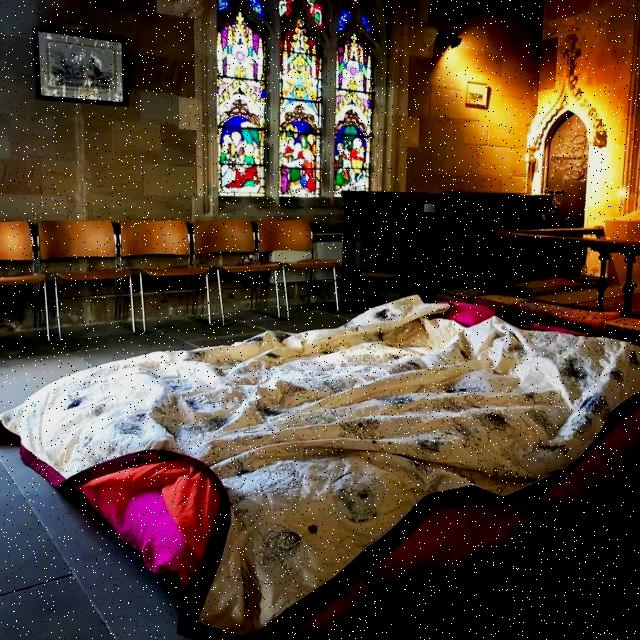bed: (8, 294, 640, 595)
